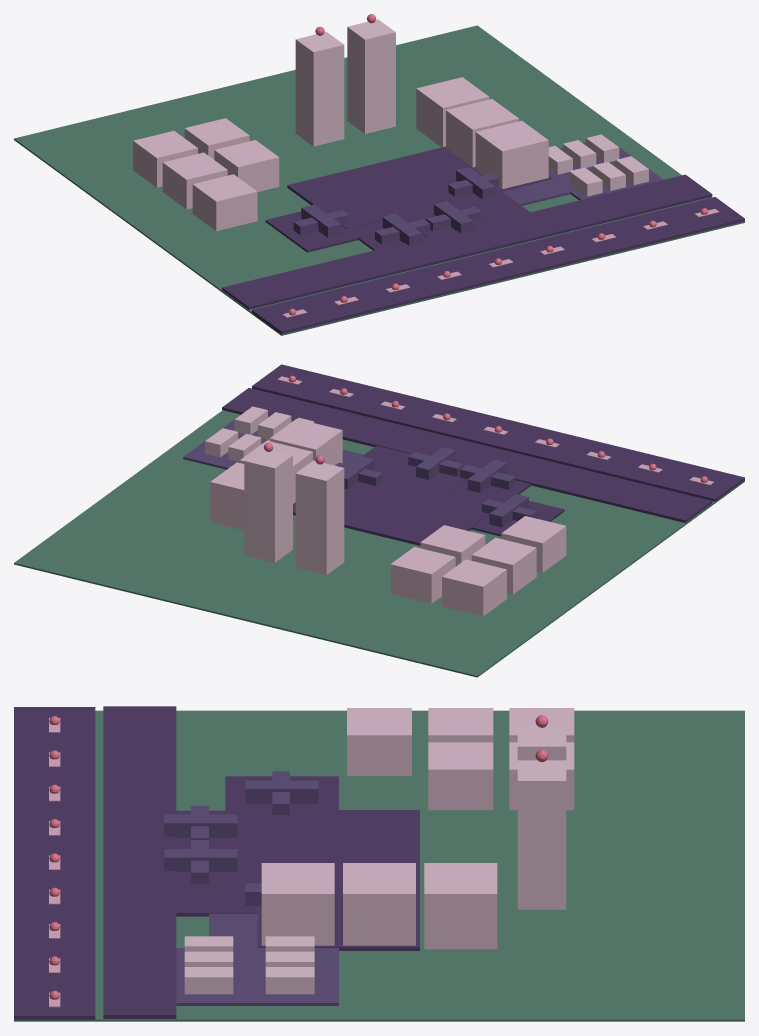
The model's file is stage_22.glb.
The picture shows the model from 3 angles, top to bottom: view 1: azimuth 30°, elevation 25°; view 2: azimuth 150°, elevation 25°; view 3: azimuth 270°, elevation 25°; orthographic projection. The views are drawn at different scales.
Parts seen in each view (by area): view 1: geometry_0; view 2: geometry_0; view 3: geometry_0.
Part boxes in pixels (x1,y1,x2,y2): geometry_0: [14, 14, 744, 335]; geometry_0: [14, 364, 744, 677]; geometry_0: [14, 706, 744, 1021].
Size of the model in its own units: 9 by 2.06 by 9.
